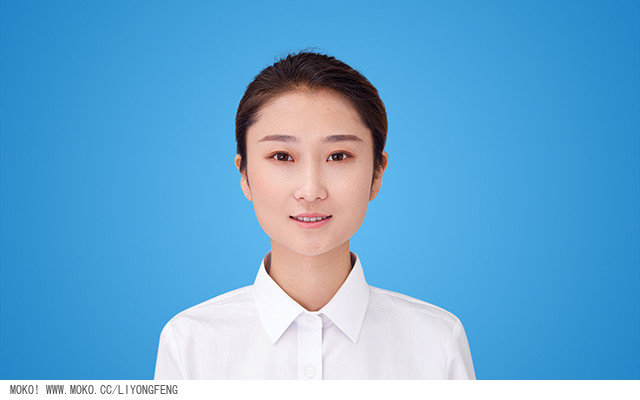unmask: (250, 107, 379, 248)
